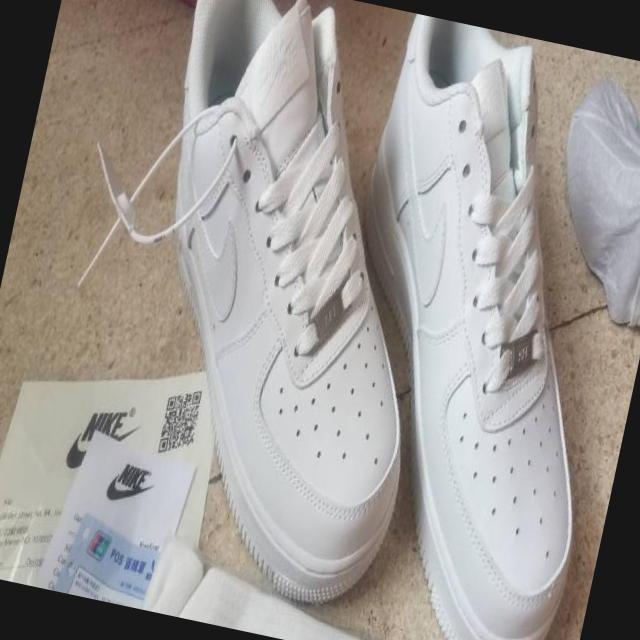nike_fake_airforce: (74, 0, 495, 625), (269, 10, 640, 640)
